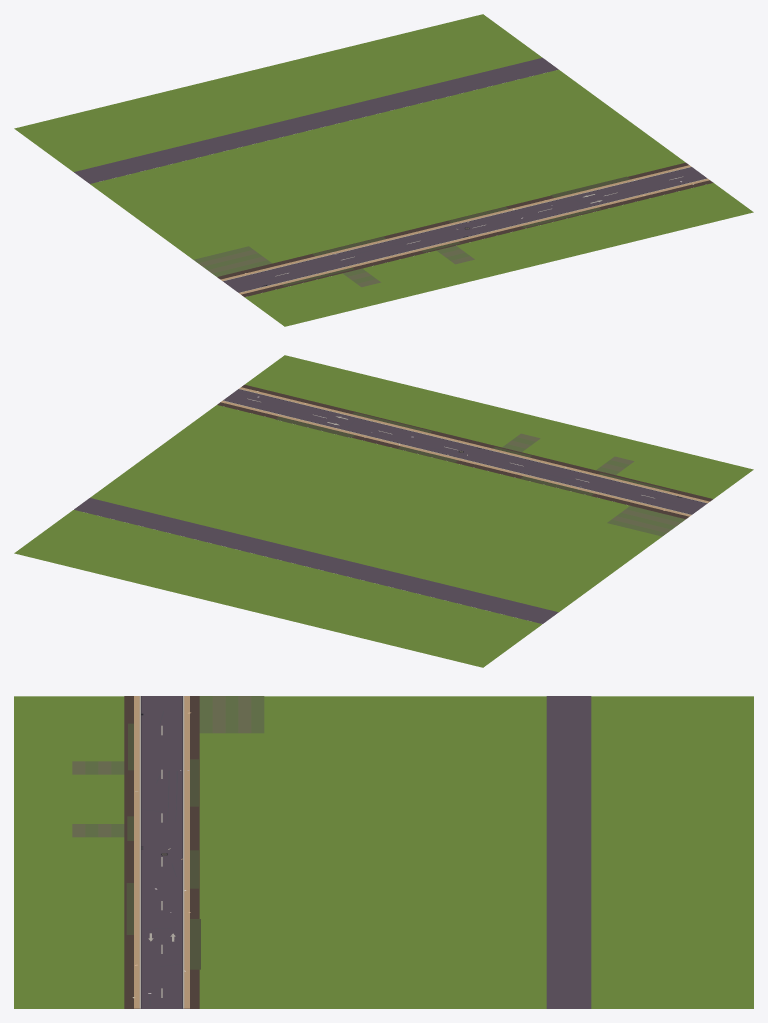
File: cure-4-2.glb
The picture shows the model from 3 angles, top to bottom: view 1: azimuth 30°, elevation 25°; view 2: azimuth 150°, elevation 25°; view 3: azimuth 270°, elevation 25°; orthographic projection. The views are drawn at different scales.
Parts seen in each view (by area): view 1: cure-4-2; view 2: cure-4-2; view 3: cure-4-2.
Part boxes in pixels (left/top/right/bottom): cure-4-2: left=14, top=14, right=753, bottom=326; cure-4-2: left=14, top=355, right=753, bottom=667; cure-4-2: left=14, top=696, right=753, bottom=1008.
Size of the model in its own units: 100 by 0.017 by 100.
